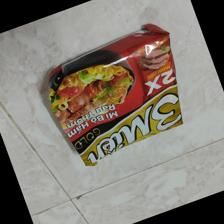3mien: (48, 21, 185, 167)
